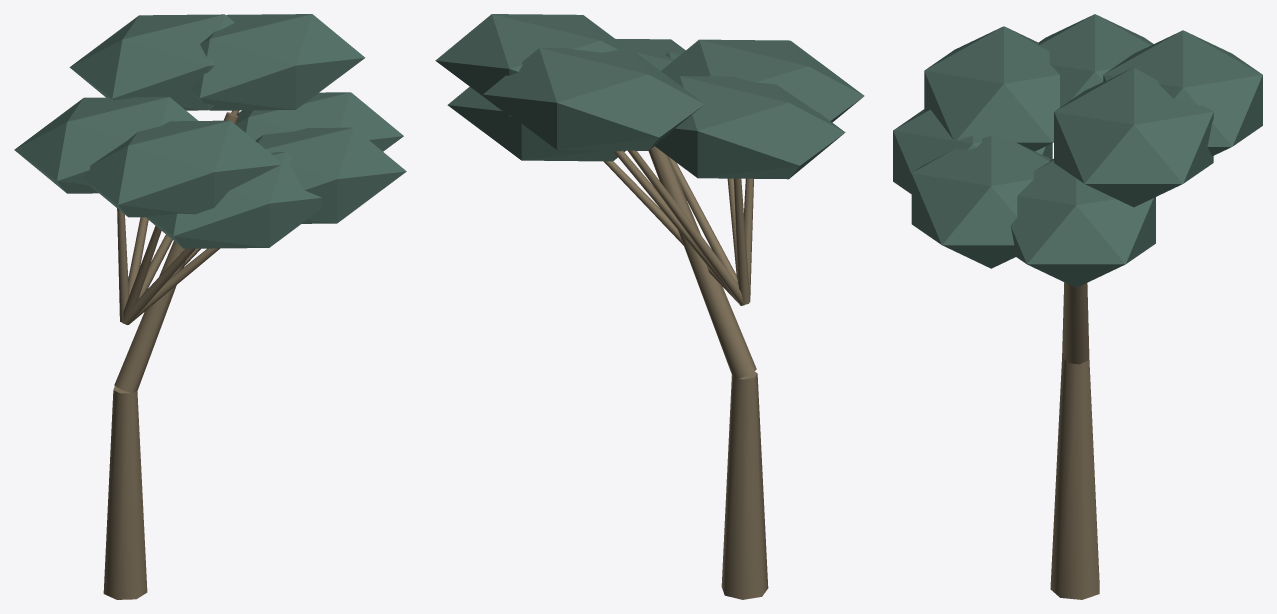
File: wind-pine.glb
3 views of the same model, side by side, from view 1: azimuth 30°, elevation 25°; view 2: azimuth 150°, elevation 25°; view 3: azimuth 270°, elevation 25° (orthographic). The views are drawn at different scales.
Parts seen in each view (by area): view 1: Ветровая сосна; view 2: Ветровая сосна; view 3: Ветровая сосна.
Part boxes in pixels (bbox=[...]): Ветровая сосна: bbox=[14, 14, 406, 599]; Ветровая сосна: bbox=[435, 14, 864, 599]; Ветровая сосна: bbox=[893, 14, 1262, 599].
Bounding box in the file's own units: 5.05 × 7.21 × 4.14.
